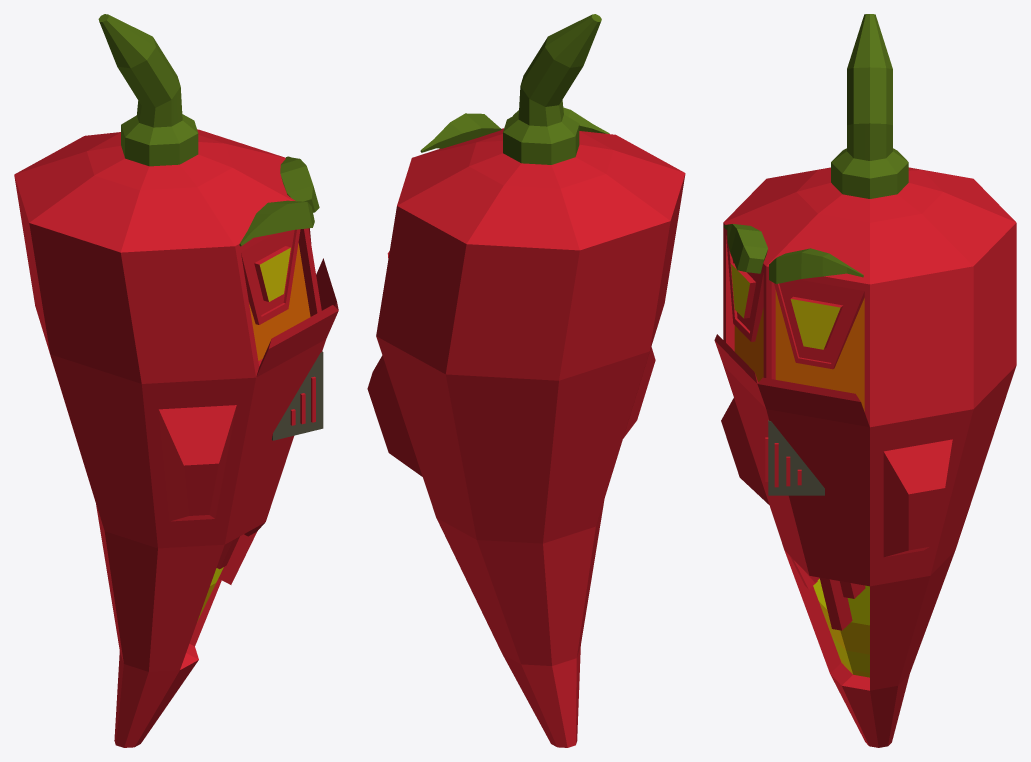
Rendered from ExportedBlenderFBXFile.fbx.
3 renders of one model, left to right at view 1: azimuth 30°, elevation 25°; view 2: azimuth 150°, elevation 25°; view 3: azimuth 270°, elevation 25°, orthographic. The views are drawn at different scales.
Parts seen in each view (by area): view 1: Cylinder_005, Cube, Cube_002, Cube_001; view 2: Cylinder_005, Cube_001; view 3: Cylinder_005, Cube_002, Cube_001, Cube.
Part boxes in pixels (x1,y1,x2,y2): Cylinder_005: (14, 14, 338, 747); Cube: (239, 200, 314, 246); Cube_002: (272, 351, 323, 440); Cube_001: (280, 156, 319, 212); Cylinder_005: (367, 14, 685, 747); Cube_001: (420, 113, 501, 152); Cylinder_005: (714, 14, 1016, 747); Cube_002: (768, 420, 824, 495); Cube_001: (769, 248, 863, 283); Cube: (723, 224, 767, 273).
Size of the model in its own units: 2.86 by 6.94 by 2.65.
